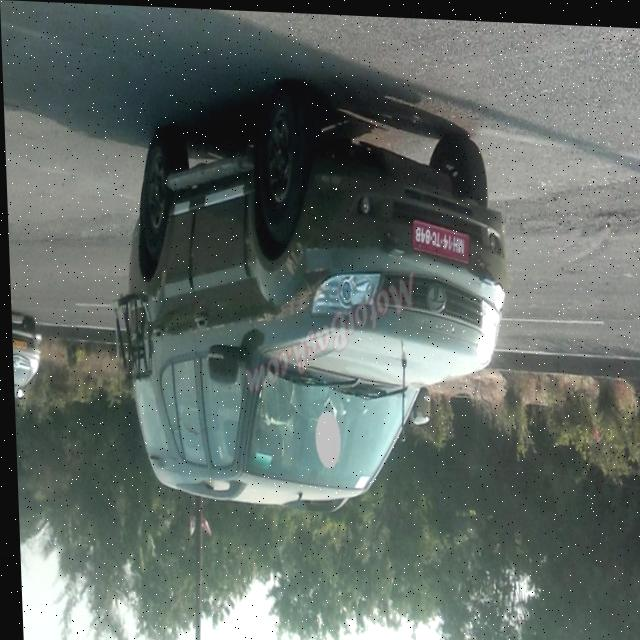plate: (407, 208, 471, 261)
